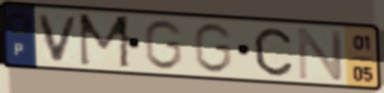C: (252, 26, 295, 78)
G: (191, 21, 235, 75), (142, 18, 185, 72)
M: (76, 12, 134, 71)
N: (295, 26, 346, 82)
V: (36, 13, 82, 64)
